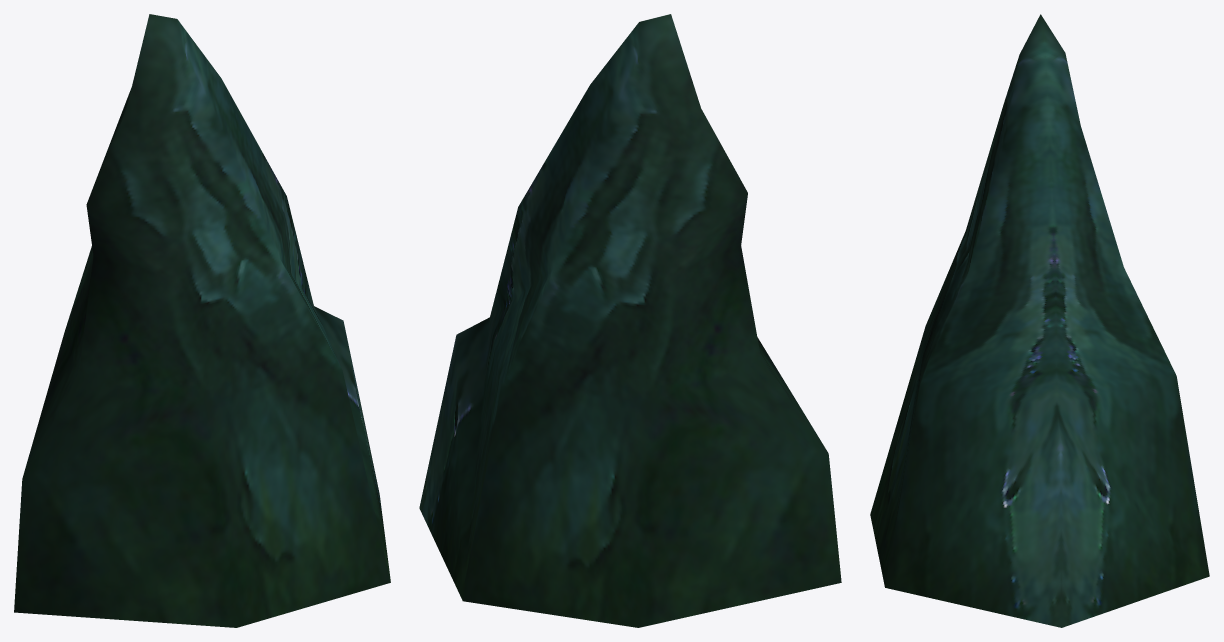
File: Yland2_st_06 Yland2.FBX
The picture shows the model from 3 angles, left to right: view 1: azimuth 30°, elevation 25°; view 2: azimuth 150°, elevation 25°; view 3: azimuth 270°, elevation 25°; orthographic projection. The views are drawn at different scales.
Visible parts, largest first — view 1: Yland2_st_06 Yland2; view 2: Yland2_st_06 Yland2; view 3: Yland2_st_06 Yland2.
Boxes of the visible parts, <box> form: Yland2_st_06 Yland2: <box>14,14,390,627</box>; Yland2_st_06 Yland2: <box>419,14,841,627</box>; Yland2_st_06 Yland2: <box>870,14,1209,627</box>.
Size of the model in its own units: 3.56 by 4.75 by 2.87.
